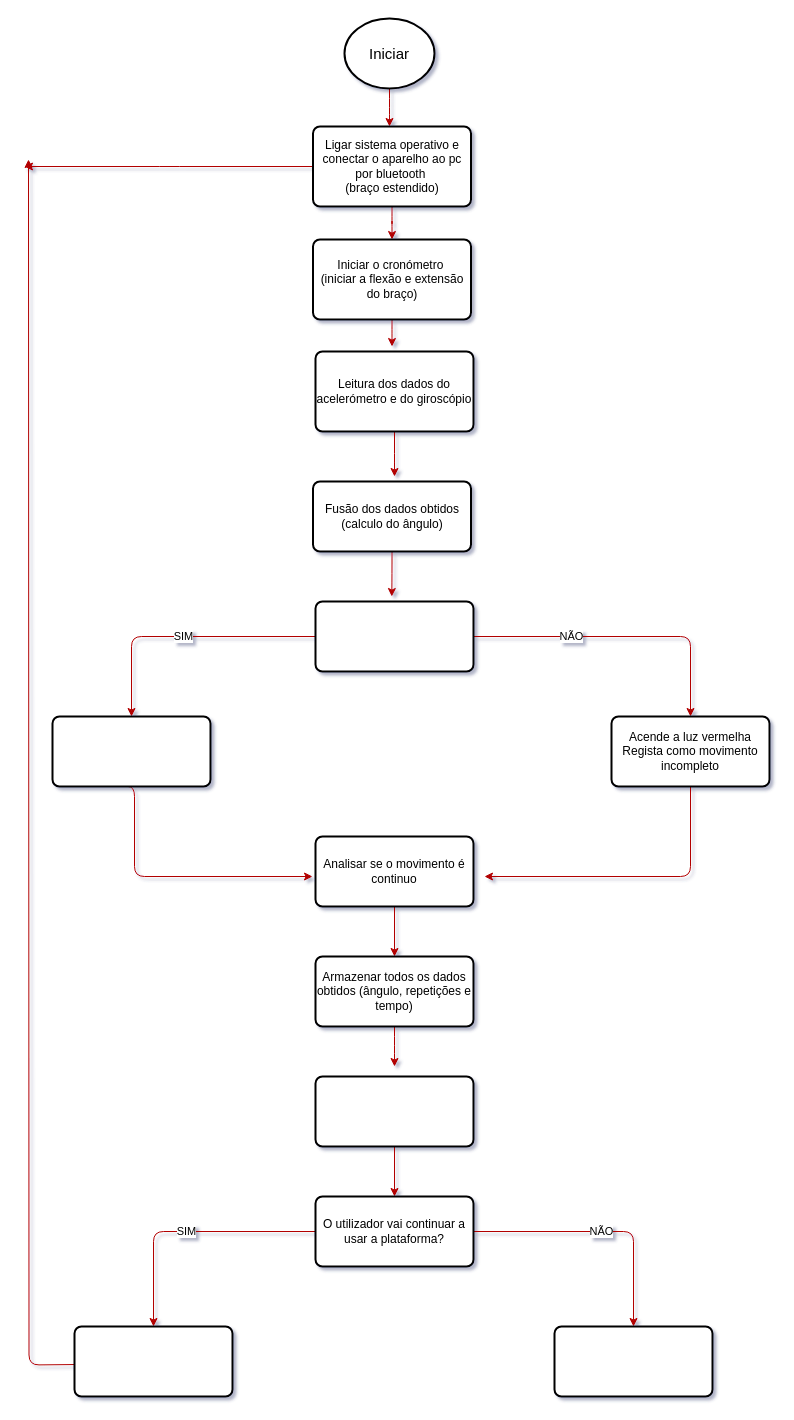
This 794x1420 diagram has some shape labels left out. The shapes that lost their labels are listed below. From the top down, each one's box as (x1, y1, x2, y2) in pixels, then its label:
(314, 600, 474, 672): Atingiu um ângulo igual ou superior a 90º?
(51, 715, 211, 787): Acende a luz verde Contabiliza como uma repetição
(314, 1075, 474, 1147): Enviar dados para o pc via bluetooth
(73, 1325, 233, 1397): Carregar no botão reset
(553, 1325, 713, 1397): Pressionar o botão on/off Fechar a aplicação no pc
